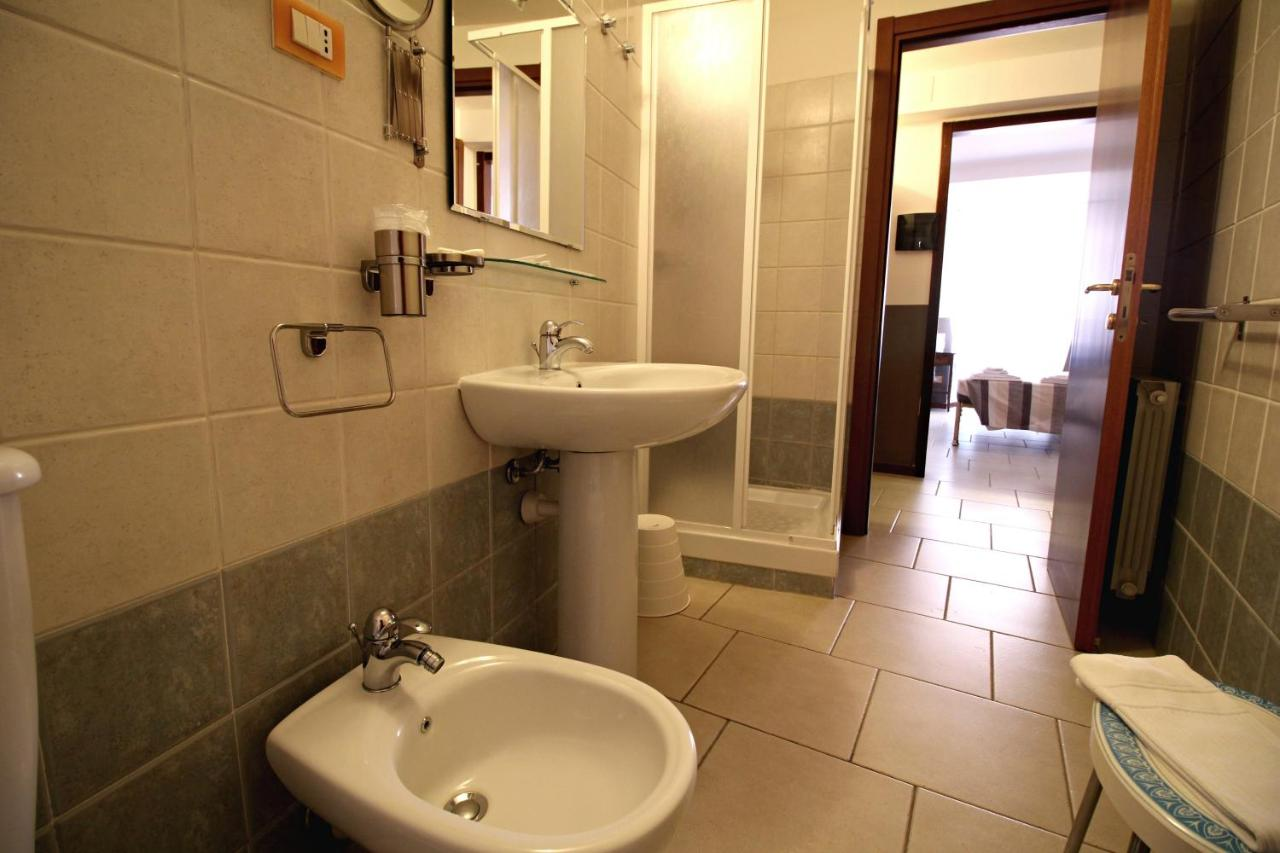chair: (1055, 674, 1280, 853)
door_handle: (1084, 278, 1122, 299), (1141, 282, 1161, 291)
faucet: (343, 598, 440, 698), (532, 314, 592, 371)
sink: (261, 633, 712, 853), (456, 361, 748, 460)
table: (913, 352, 952, 412)
